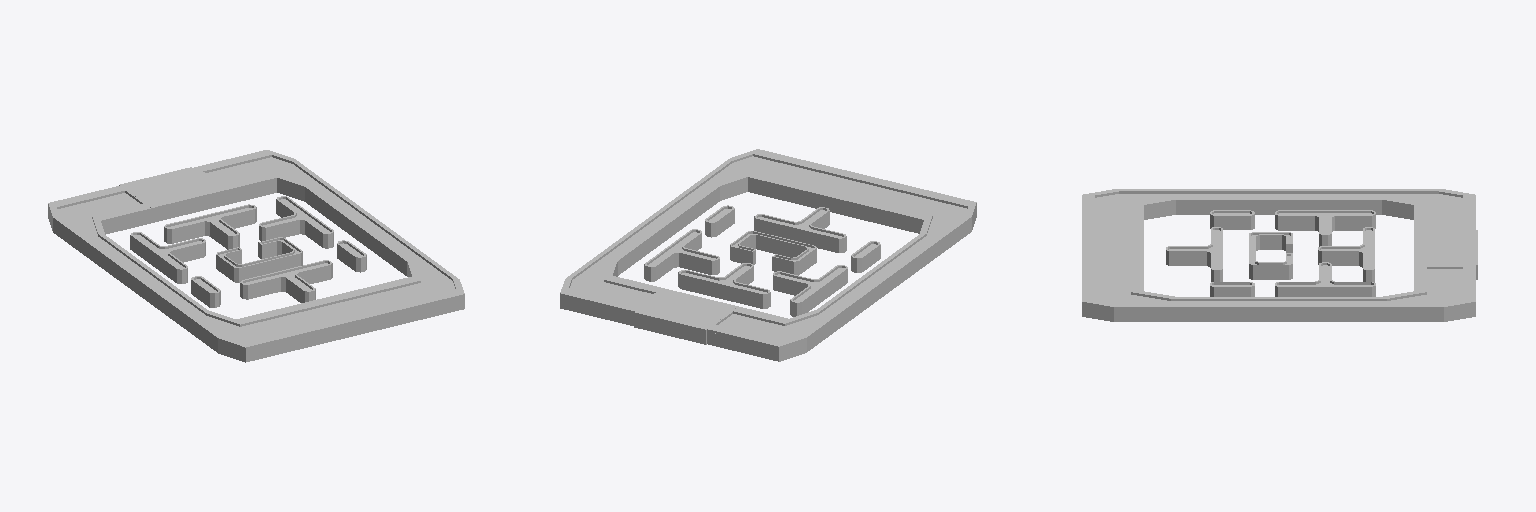
Rendered from mapa3.obj.
3 views of the same model, side by side, from view 1: azimuth 30°, elevation 25°; view 2: azimuth 150°, elevation 25°; view 3: azimuth 270°, elevation 25° (orthographic).
Visible parts, largest first — view 1: Cube_Cube.003, Cube.009_Cube.002, Cube.015_Cube.001_Cube.015_Cube.002, Cube.014_Cube.002, Cube.021_Cube.040, Cube_Cube.001, Cube.027_Cube.046, Cube.018_Cube.037, Cube.005_Cube.000, Cube.009_Cube.029, Cube.022_Cube.041, Cube.028_Cube.047 (+2 smaller); view 2: Cube_Cube.003, Cube.009_Cube.002, Cube.015_Cube.001_Cube.015_Cube.002, Cube.014_Cube.002, Cube.021_Cube.040, Cube.027_Cube.046, Cube_Cube.001, Cube.018_Cube.037, Cube.005_Cube.000, Cube.009_Cube.029, Cube.022_Cube.041, Cube.028_Cube.047 (+2 smaller); view 3: Cube_Cube.003, Cube.009_Cube.002, Cube.015_Cube.001_Cube.015_Cube.002, Cube.005_Cube.000, Cube.014_Cube.002, Cube.018_Cube.037, Cube_Cube.001, Cube.027_Cube.046, Cube.021_Cube.040, Cube.003_Cube.033, Cube.019_Cube.038, Cube.009_Cube.029.
Part boxes in pixels (left/top/right/bottom): Cube_Cube.003: left=48, top=157, right=464, bottom=359; Cube.009_Cube.002: left=48, top=150, right=464, bottom=349; Cube.015_Cube.001_Cube.015_Cube.002: left=119, top=167, right=223, bottom=221; Cube.014_Cube.002: left=48, top=190, right=464, bottom=362; Cube.021_Cube.040: left=164, top=208, right=256, bottom=248; Cube_Cube.001: left=216, top=240, right=302, bottom=280; Cube.027_Cube.046: left=240, top=263, right=332, bottom=302; Cube.018_Cube.037: left=259, top=199, right=333, bottom=246; Cube.005_Cube.000: left=130, top=235, right=205, bottom=281; Cube.009_Cube.029: left=216, top=237, right=302, bottom=269; Cube.022_Cube.041: left=164, top=204, right=256, bottom=237; Cube.028_Cube.047: left=240, top=260, right=332, bottom=293; Cube_Cube.003: left=560, top=156, right=976, bottom=359; Cube.009_Cube.002: left=560, top=149, right=976, bottom=348; Cube.015_Cube.001_Cube.015_Cube.002: left=634, top=289, right=737, bottom=344; Cube.014_Cube.002: left=560, top=190, right=976, bottom=361; Cube.021_Cube.040: left=678, top=266, right=770, bottom=306; Cube.027_Cube.046: left=754, top=210, right=846, bottom=250; Cube_Cube.001: left=730, top=234, right=816, bottom=273; Cube.018_Cube.037: left=644, top=232, right=719, bottom=279; Cube.005_Cube.000: left=773, top=268, right=847, bottom=314; Cube.009_Cube.029: left=730, top=231, right=816, bottom=263; Cube.022_Cube.041: left=678, top=263, right=770, bottom=296; Cube.028_Cube.047: left=754, top=207, right=846, bottom=240; Cube_Cube.003: left=1082, top=194, right=1475, bottom=319; Cube.009_Cube.002: left=1082, top=189, right=1475, bottom=308; Cube.015_Cube.001_Cube.015_Cube.002: left=1414, top=230, right=1477, bottom=279; Cube.005_Cube.000: left=1275, top=213, right=1375, bottom=245; Cube.014_Cube.002: left=1082, top=212, right=1475, bottom=321; Cube.018_Cube.037: left=1275, top=265, right=1375, bottom=296; Cube_Cube.001: left=1249, top=235, right=1292, bottom=277; Cube.027_Cube.046: left=1166, top=230, right=1222, bottom=281; Cube.021_Cube.040: left=1318, top=230, right=1374, bottom=281; Cube.003_Cube.033: left=1275, top=210, right=1375, bottom=236; Cube.019_Cube.038: left=1275, top=262, right=1375, bottom=288; Cube.009_Cube.029: left=1249, top=232, right=1292, bottom=267.
Bounding box in the file's own units: 17.03 × 1.06 × 24.25.